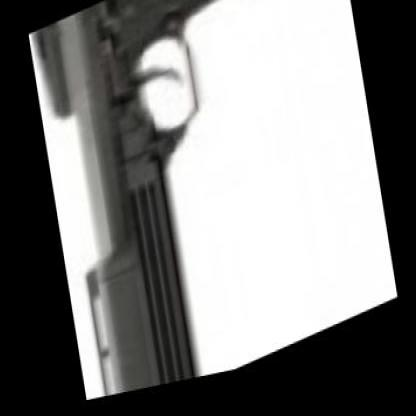pistol: (27, 0, 364, 411)
